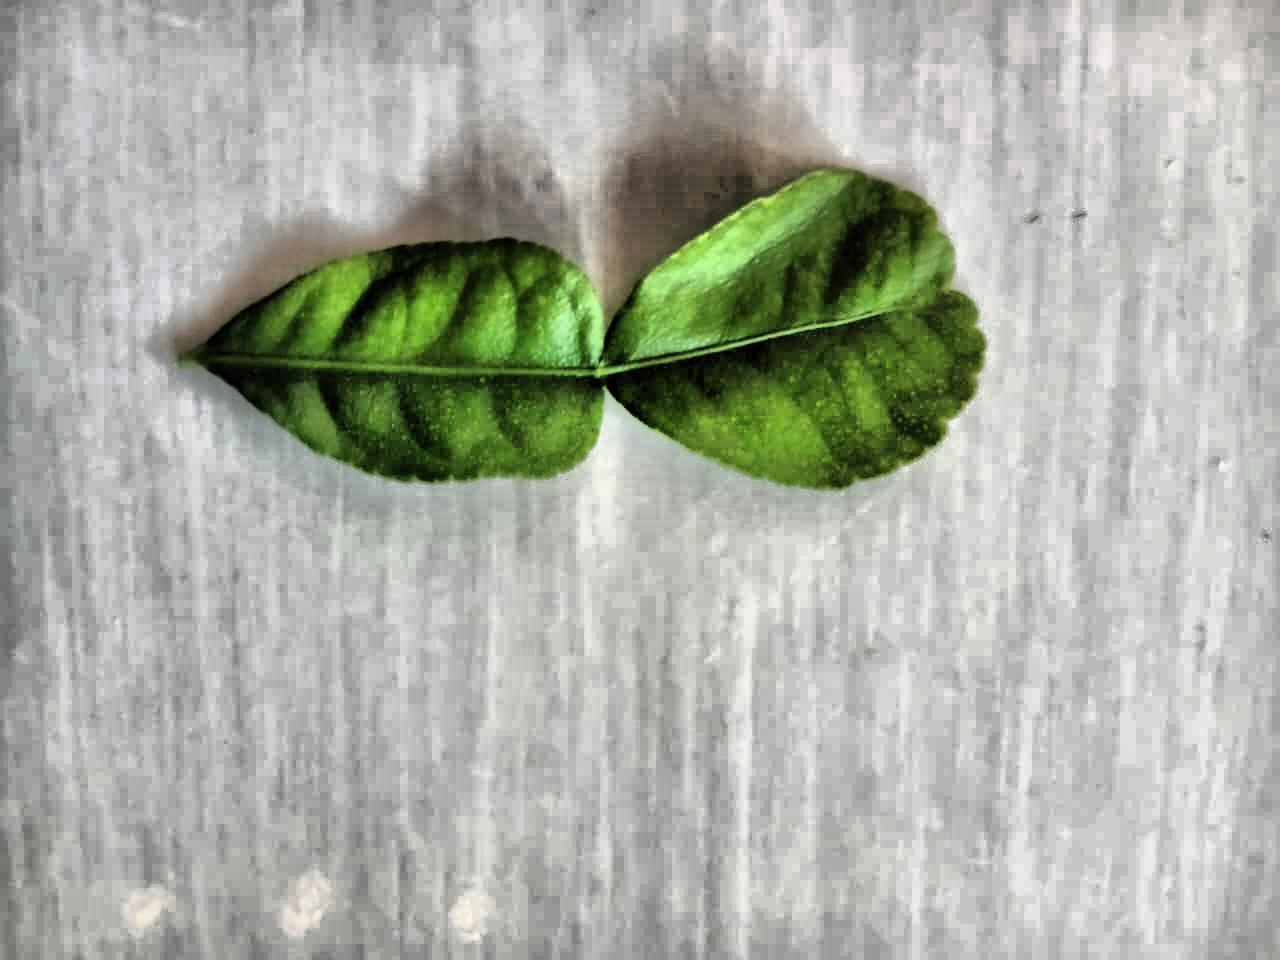daun jeruk: (179, 169, 984, 488)
